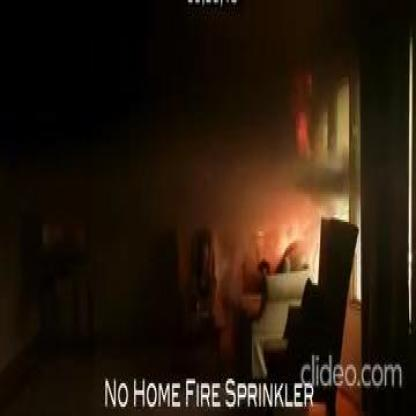fire: (275, 203, 311, 262), (294, 110, 309, 164)
